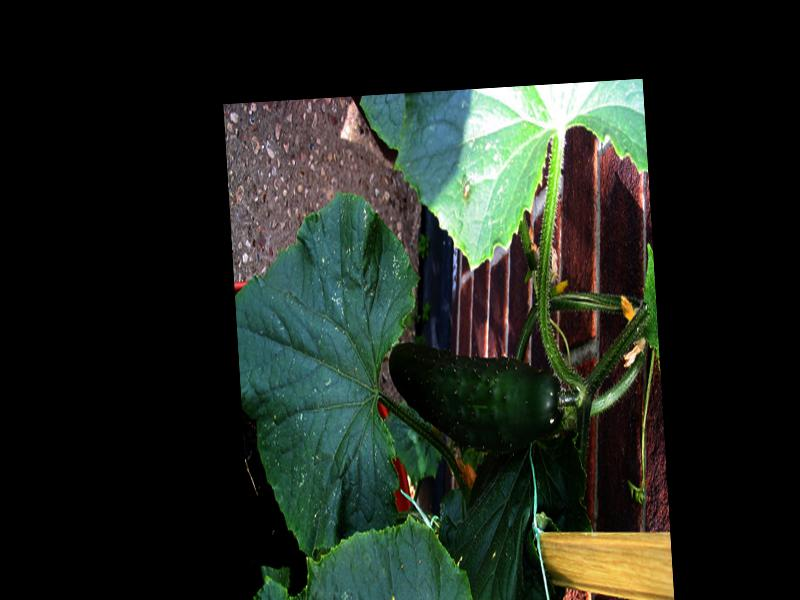Cucumber: (387, 330, 564, 458)
